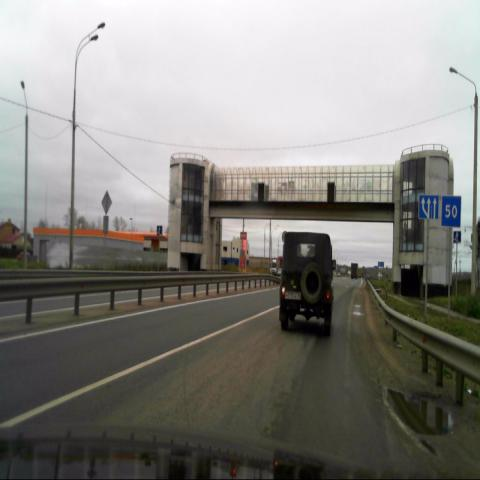5_15_2_2: (418, 194, 438, 219)
6_2: (442, 196, 461, 226)
